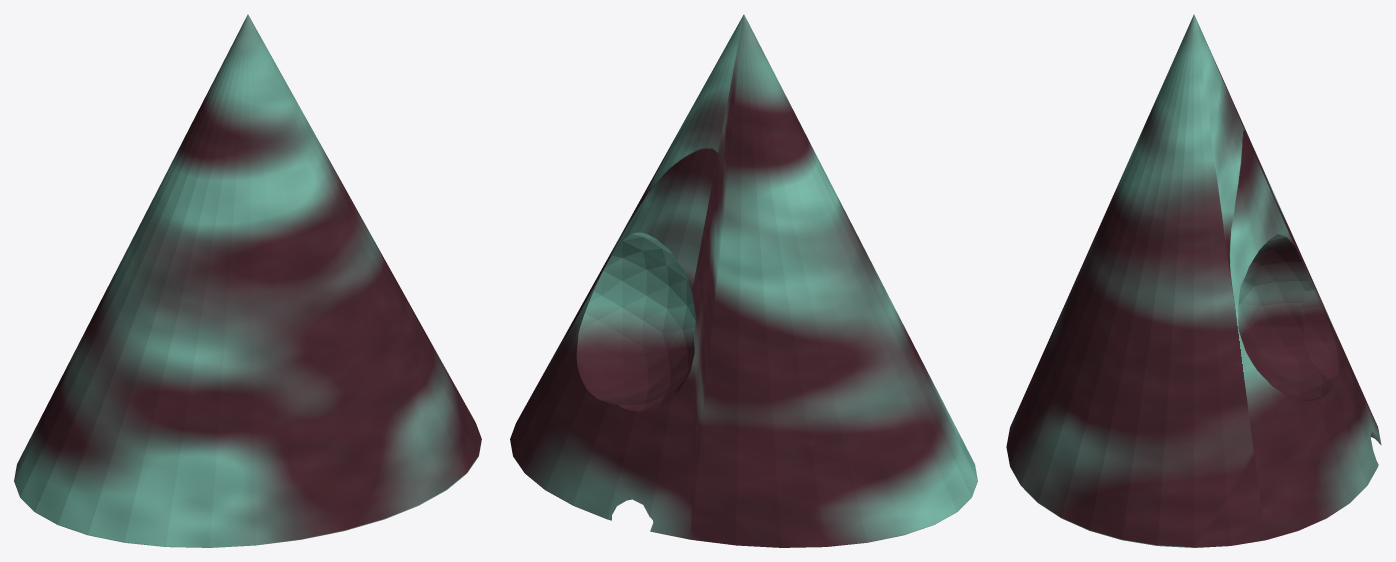
3 renders of one model, left to right at view 1: azimuth 30°, elevation 25°; view 2: azimuth 150°, elevation 25°; view 3: azimuth 270°, elevation 25°, orthographic. The views are drawn at different scales.
Parts seen in each view (by area): view 1: geometry_0; view 2: geometry_0; view 3: geometry_0.
Part boxes in pixels (x1,y1,x2,y2): geometry_0: (14, 14, 481, 547); geometry_0: (510, 14, 977, 547); geometry_0: (1006, 14, 1381, 547).
Bounding box in the file's own units: 2.76 × 2.76 × 2.16.
Materials: 1 (1 with a texture image).
